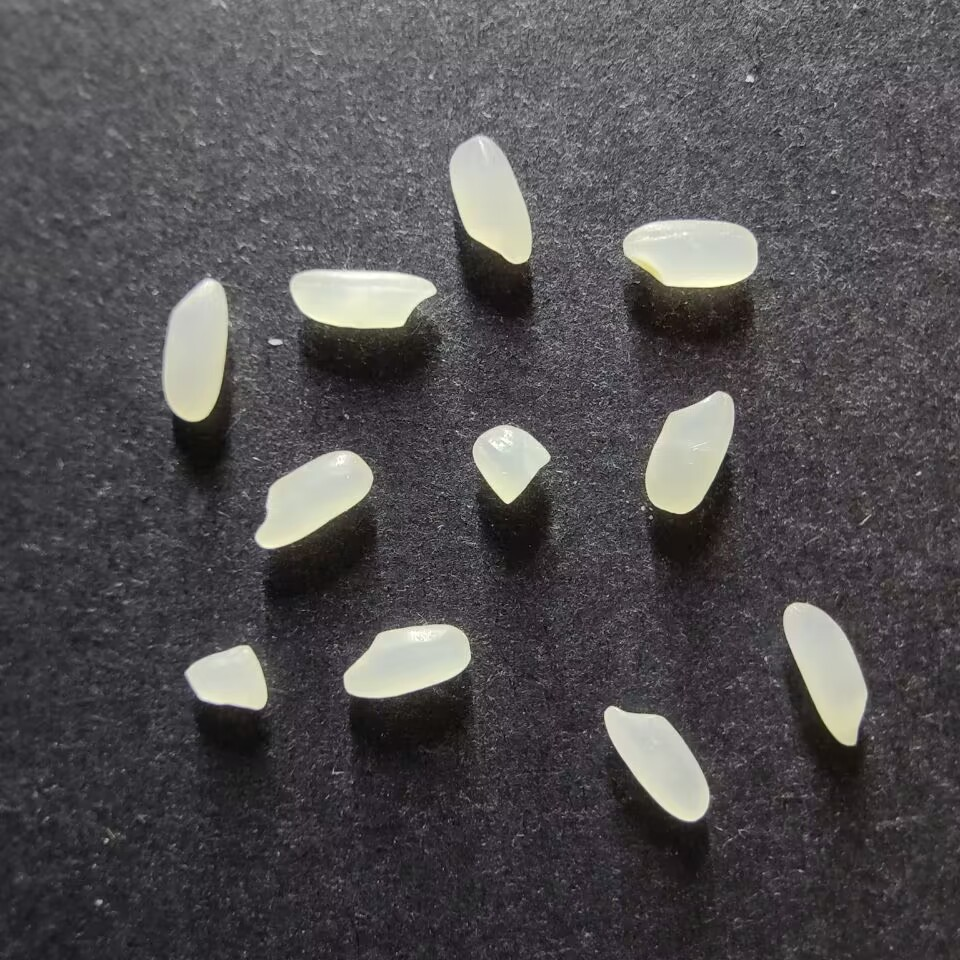broken: (470, 422, 552, 507), (183, 644, 268, 711)
rice: (781, 599, 872, 749), (601, 703, 712, 823), (252, 446, 375, 551), (643, 388, 736, 515), (446, 133, 534, 265), (340, 621, 473, 701), (159, 277, 230, 423), (620, 217, 759, 289), (287, 267, 438, 330)
